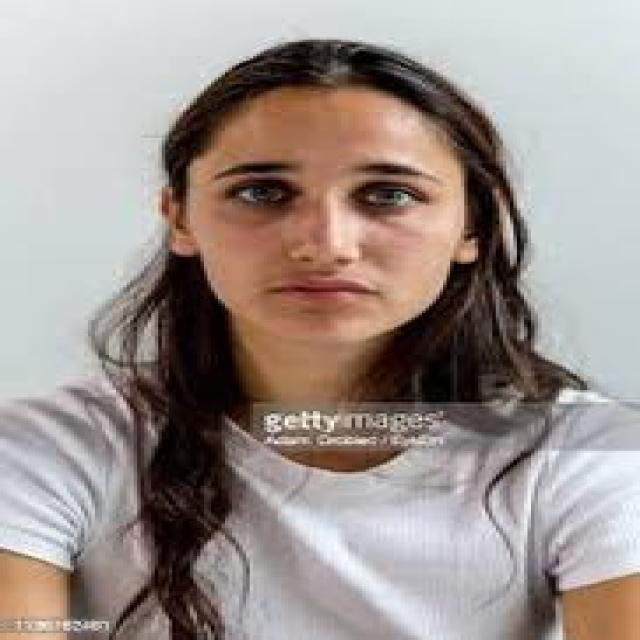natural: (173, 111, 484, 346)
